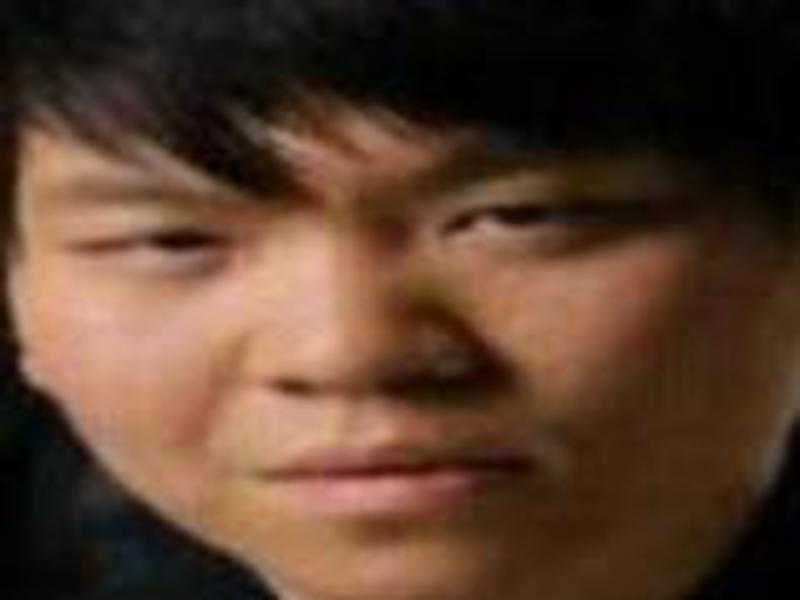without_mask: (10, 95, 776, 593)
